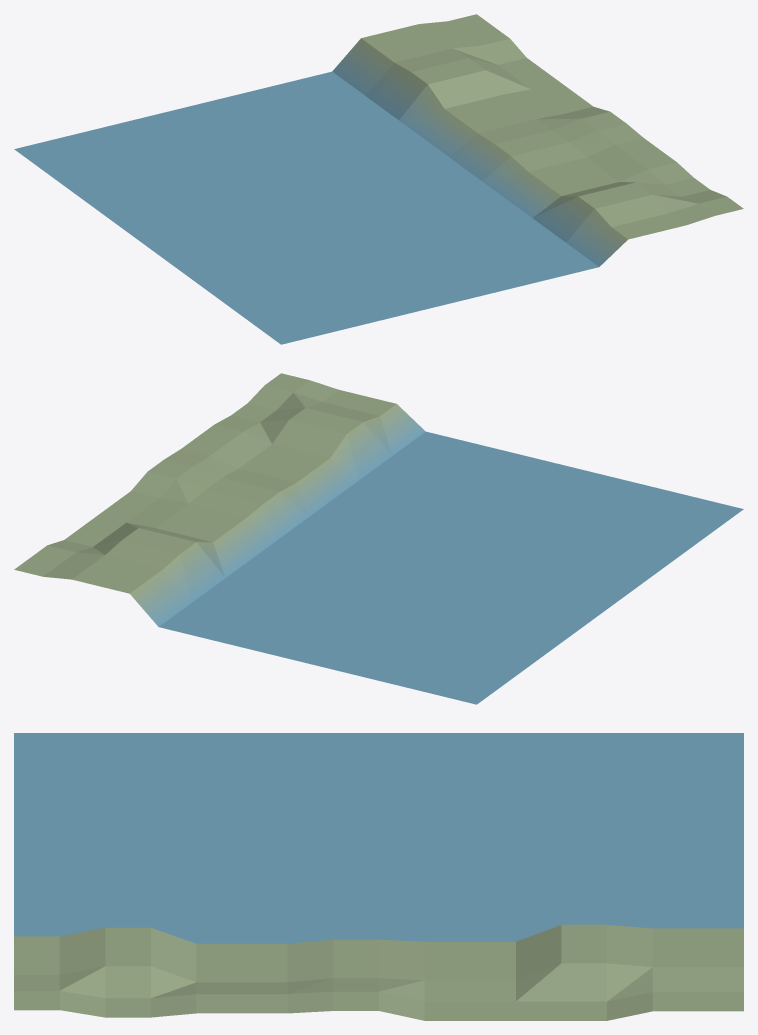
3 views of the same model, one above another, from view 1: azimuth 30°, elevation 25°; view 2: azimuth 150°, elevation 25°; view 3: azimuth 270°, elevation 25° (orthographic). The views are drawn at different scales.
Bounding box in the file's own units: 32 × 1.92 × 32.
